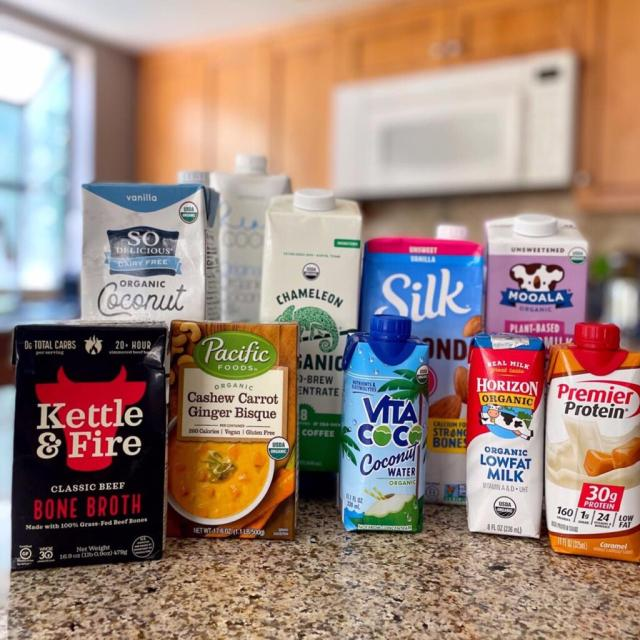cardboard: (338, 226, 482, 532), (4, 316, 170, 571), (80, 148, 270, 318), (170, 316, 303, 544), (260, 187, 360, 468), (545, 322, 640, 565), (462, 326, 546, 536), (480, 200, 591, 333)
